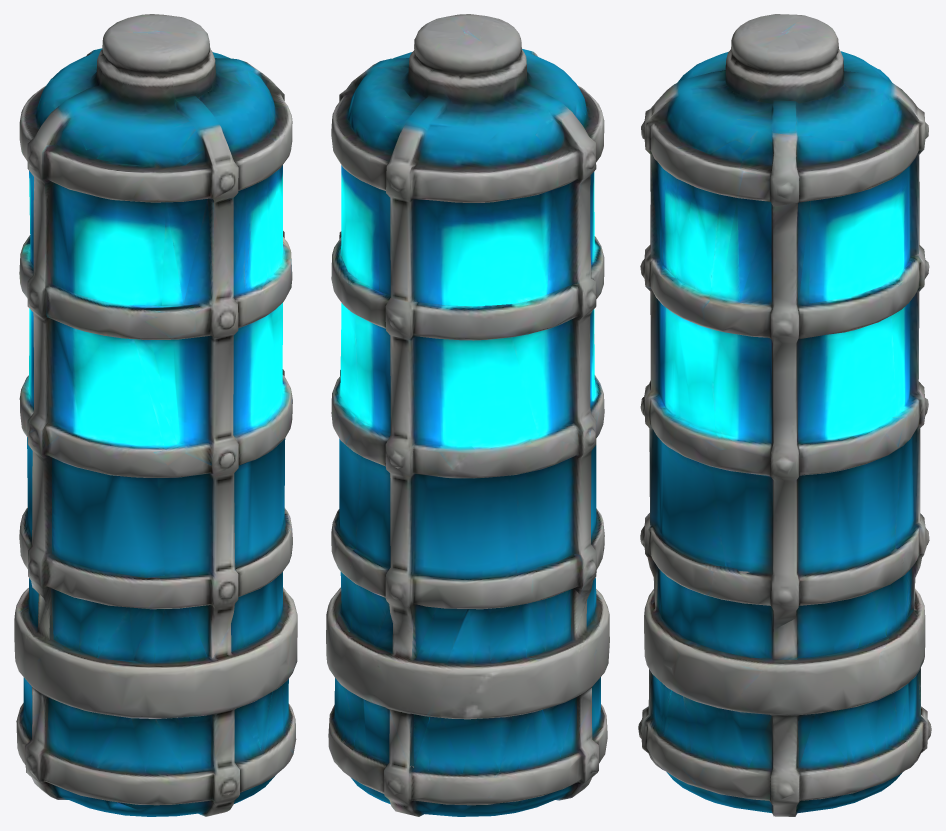
The model's file is item_shield_l.glb.
The picture shows the model from 3 angles, left to right: view 1: azimuth 30°, elevation 25°; view 2: azimuth 150°, elevation 25°; view 3: azimuth 270°, elevation 25°; orthographic projection.
Size of the model in its own units: 0.6866 by 1.91 by 0.6874.
Materials: 1 (1 with a texture image).
